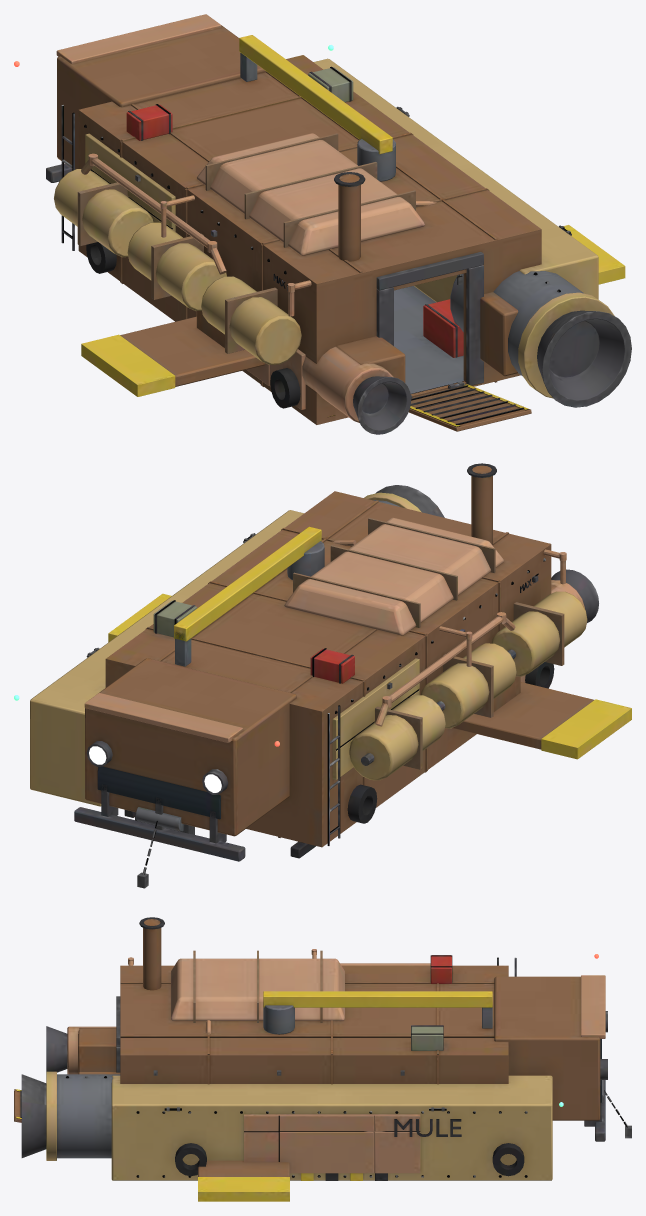
Rendered from mule.glb.
3 renders of one model, top to bottom at view 1: azimuth 30°, elevation 25°; view 2: azimuth 150°, elevation 25°; view 3: azimuth 270°, elevation 25°, orthographic. The views are drawn at different scales.
Parts seen in each view (by area): view 1: hull, ramp.001; view 2: hull, glass; view 3: hull.
Boxes of the visible parts, box(x1,y1,x2,y2) form: hull: box(46, 14, 631, 434); ramp.001: box(408, 384, 531, 431); hull: box(30, 463, 631, 888); glass: box(97, 766, 220, 819); hull: box(21, 917, 631, 1201).
Bounding box in the file's own units: 13.01 × 6 × 17.52.
Materials: 18 (14 with a texture image).
